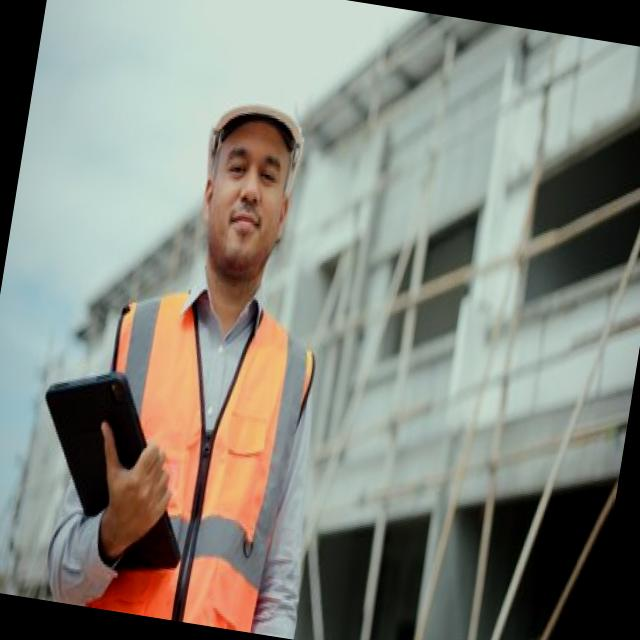helmet: (202, 56, 318, 172)
no-goggles: (199, 140, 296, 210)
vest: (64, 272, 328, 637)
